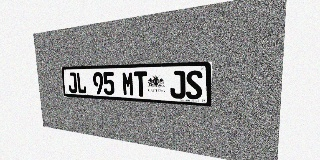5: (103, 72, 115, 95)
9: (93, 72, 104, 95)
J: (170, 71, 185, 99), (67, 72, 77, 93)
L: (76, 72, 87, 94)
M: (122, 71, 135, 96)
S: (186, 70, 202, 100)
T: (134, 71, 148, 97)
